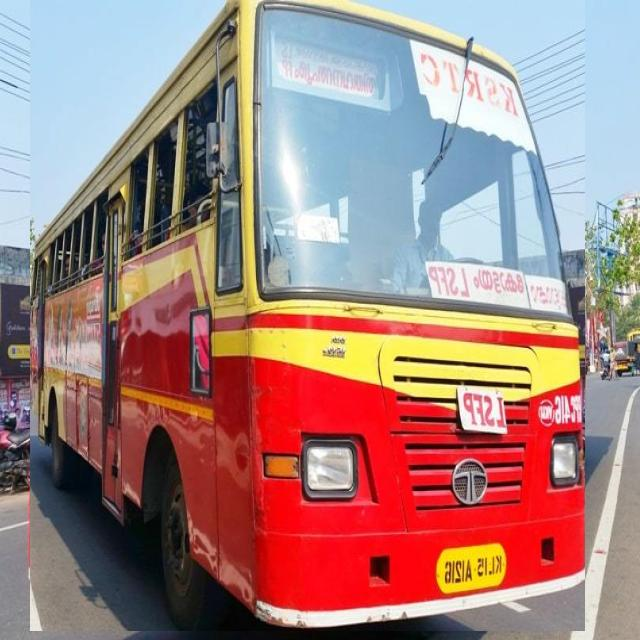bus: (30, 0, 585, 631)
